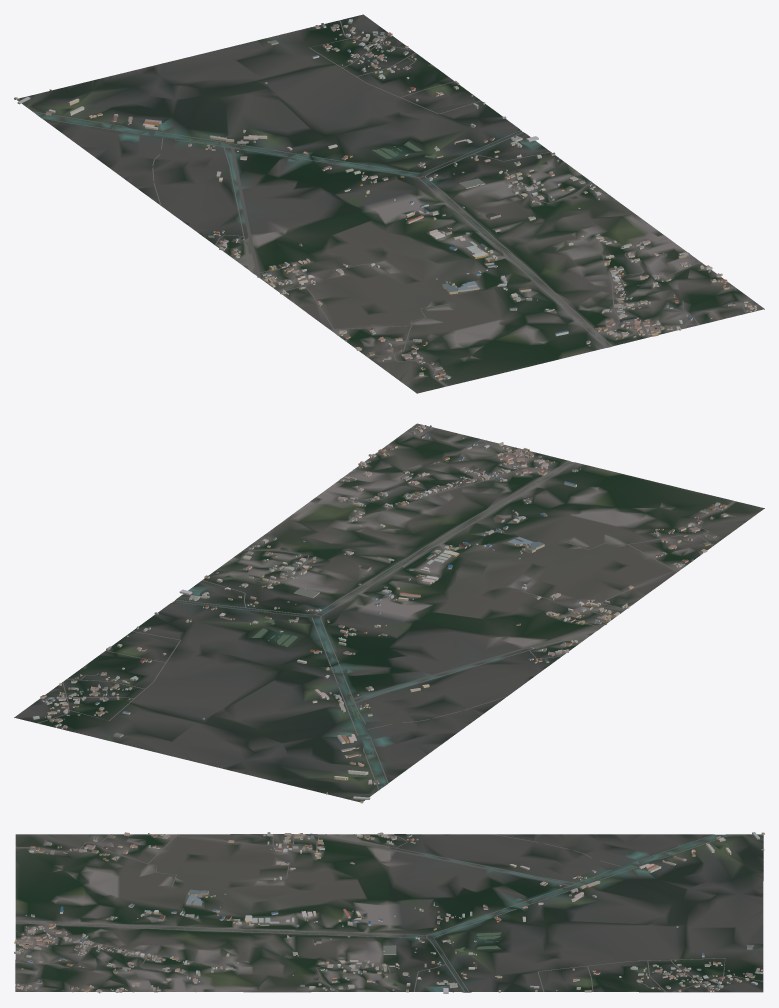
3 views of the same model, one above another, from view 1: azimuth 30°, elevation 25°; view 2: azimuth 150°, elevation 25°; view 3: azimuth 270°, elevation 25° (orthographic). The views are drawn at different scales.
Parts seen in each view (by area): view 1: ground, buildings, roads; view 2: ground, buildings, roads; view 3: ground, buildings, roads, water.
Boxes of the visible parts, left/top/right/bottom form: ground: left=17, top=14, right=764, bottom=393; buildings: left=14, top=19, right=756, bottom=380; roads: left=33, top=20, right=746, bottom=375; ground: left=14, top=423, right=764, bottom=802; buildings: left=32, top=425, right=728, bottom=803; roads: left=37, top=428, right=719, bottom=790; ground: left=15, top=834, right=763, bottom=992; buildings: left=14, top=832, right=764, bottom=993; roads: left=15, top=833, right=763, bottom=992; water: left=32, top=834, right=719, bottom=988.
Bounding box in the file's own units: 1425 × 14.42 × 2813.
